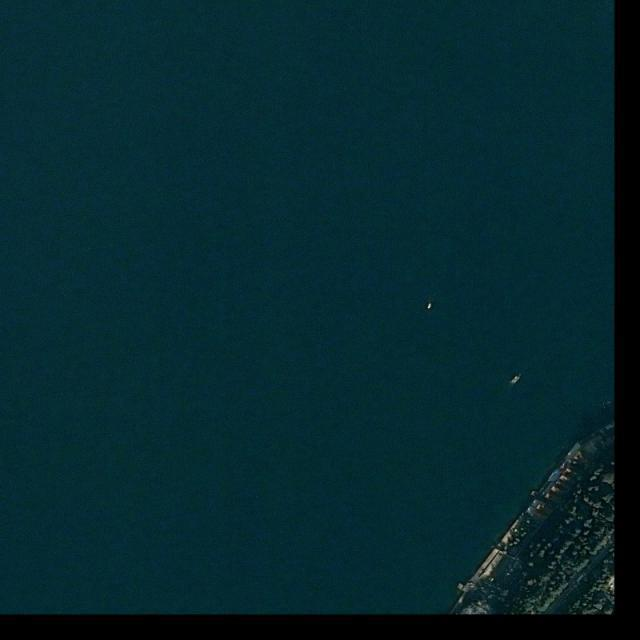ship: (510, 373, 523, 386), (427, 303, 432, 310)
